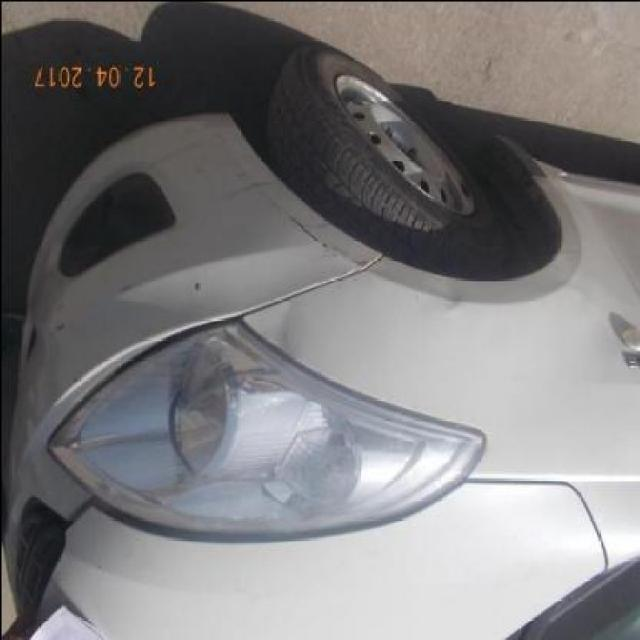damage: (223, 173, 345, 259), (102, 273, 202, 320), (429, 271, 461, 321), (47, 303, 67, 343)
